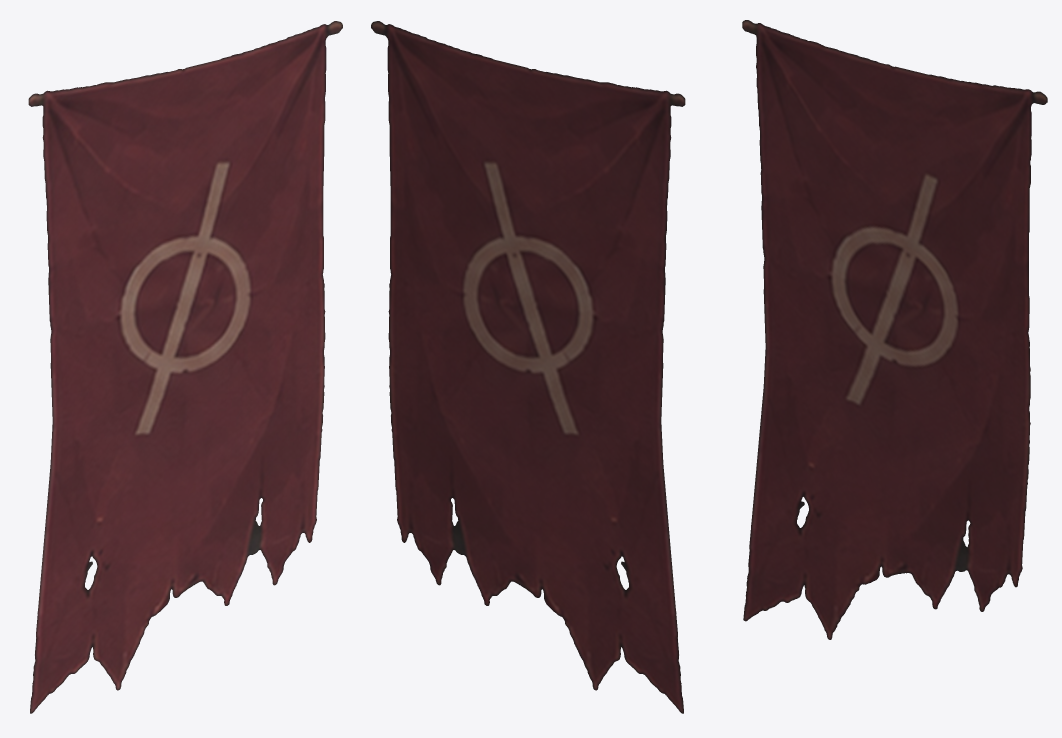
Rendered from Flag_0.FBX.
3 renders of one model, left to right at view 1: azimuth 30°, elevation 25°; view 2: azimuth 150°, elevation 25°; view 3: azimuth 330°, elevation 25°, orthographic. The views are drawn at different scales.
Parts seen in each view (by area): view 1: Object043; view 2: Object043; view 3: Object043.
Boxes of the visible parts, x1,y1,x2,y2 form: Object043: (28, 21, 342, 713); Object043: (371, 21, 685, 713); Object043: (742, 20, 1047, 639).
Bounding box in the file's own units: 1.41 × 2.7 × 4.38e-07.
Materials: 1 (1 with a texture image).
